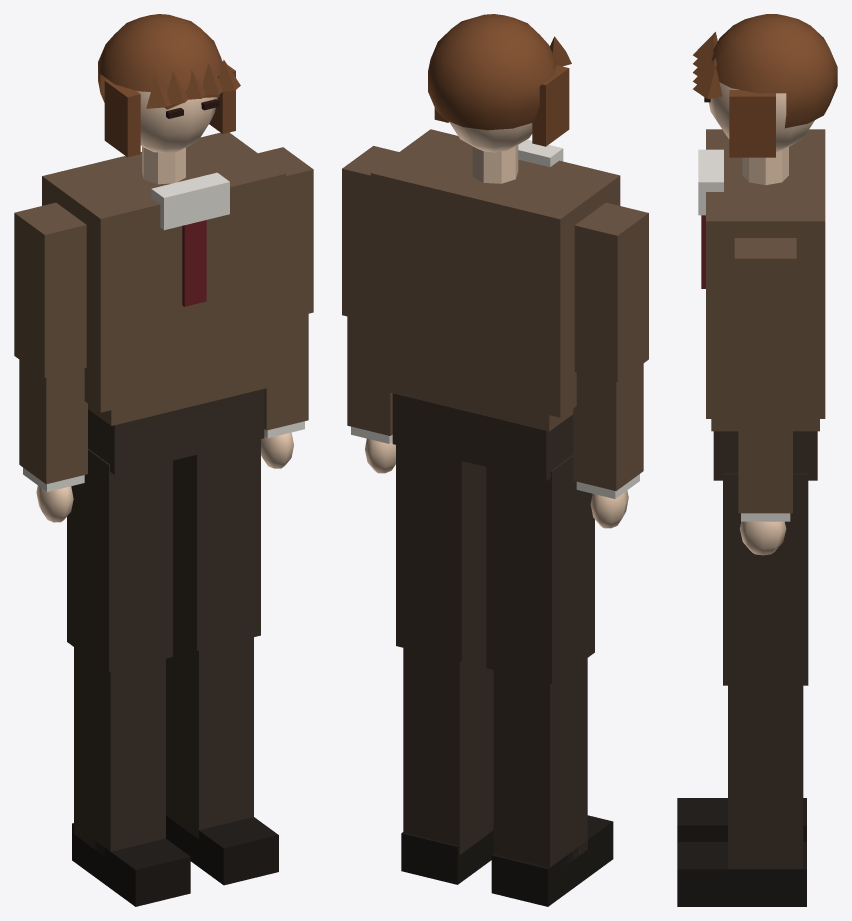
The model's file is light.glb.
3 renders of one model, left to right at view 1: azimuth 30°, elevation 25°; view 2: azimuth 150°, elevation 25°; view 3: azimuth 270°, elevation 25°, orthographic. The views are drawn at different scales.
Parts seen in each view (by area): view 1: Torso, LegLowerR, LegLowerL, LegUpperR, LegUpperL, Head, ArmUpperR, ArmLowerR, ArmLowerL, ArmUpperL; view 2: Torso, LegLowerR, LegUpperR, LegLowerL, LegUpperL, Head, ArmUpperR, ArmLowerR, ArmUpperL, ArmLowerL; view 3: Torso, LegLowerL, Head, LegUpperL, ArmUpperL, ArmLowerL, LegLowerR.
Part boxes in pixels (x1,y1,x2,y2): Torso: (42, 132, 285, 474); LegLowerR: (72, 647, 190, 906); LegLowerL: (166, 633, 278, 885); LegUpperR: (67, 449, 172, 672); LegUpperL: (173, 439, 260, 650); Head: (98, 14, 240, 157); ArmUpperR: (14, 202, 86, 377); ArmLowerR: (19, 360, 87, 522); ArmLowerL: (261, 314, 308, 468); ArmUpperL: (258, 147, 313, 319); Torso: (370, 129, 620, 481); LegLowerR: (491, 658, 613, 906); LegUpperR: (486, 455, 594, 683); LegLowerL: (401, 644, 493, 884); LegUpperL: (396, 445, 486, 661); Head: (428, 14, 571, 152); ArmUpperR: (574, 202, 648, 382); ArmLowerR: (573, 363, 643, 528); ArmUpperL: (342, 146, 398, 321); ArmLowerL: (347, 316, 395, 473); Torso: (698, 129, 825, 480); LegLowerL: (677, 685, 806, 906); Head: (693, 14, 837, 157); LegUpperL: (723, 473, 808, 685); ArmUpperL: (734, 238, 796, 404); ArmLowerL: (738, 404, 792, 555); LegLowerR: (677, 798, 806, 841).
Bounding box in the file's own units: 0.61 × 1.81 × 0.3086.
